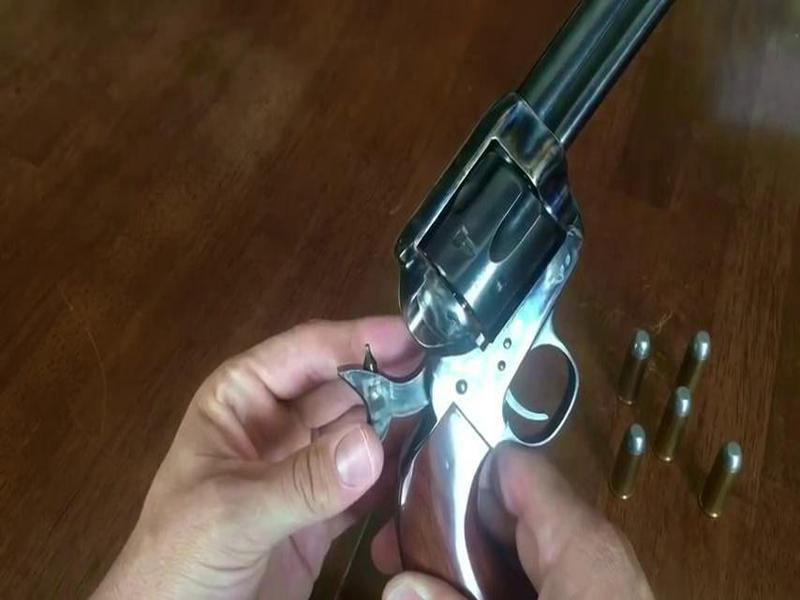Revolver: (325, 11, 643, 497)
